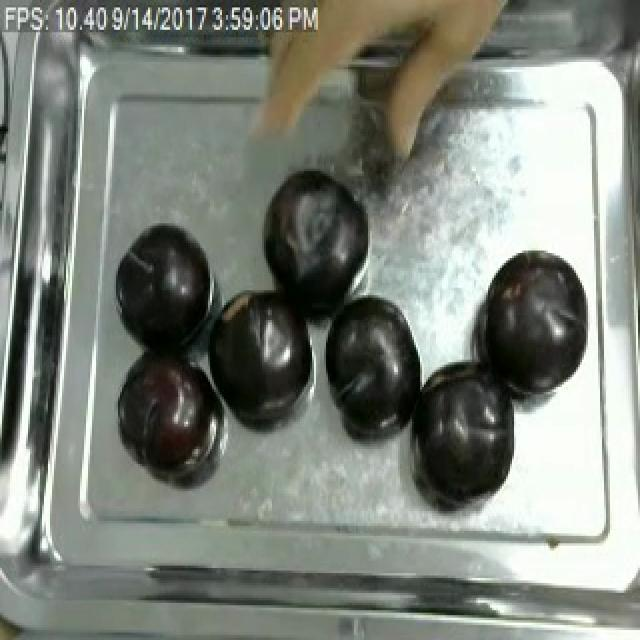Fruit: (472, 240, 590, 402), (314, 285, 430, 449), (256, 164, 376, 320), (400, 357, 520, 511), (202, 278, 320, 429), (108, 218, 220, 350), (114, 350, 228, 476)
